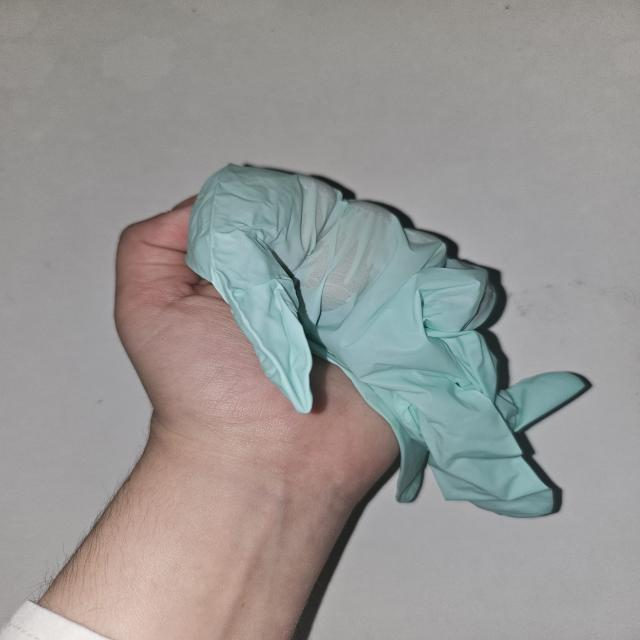glove_partial: (110, 162, 592, 520)
